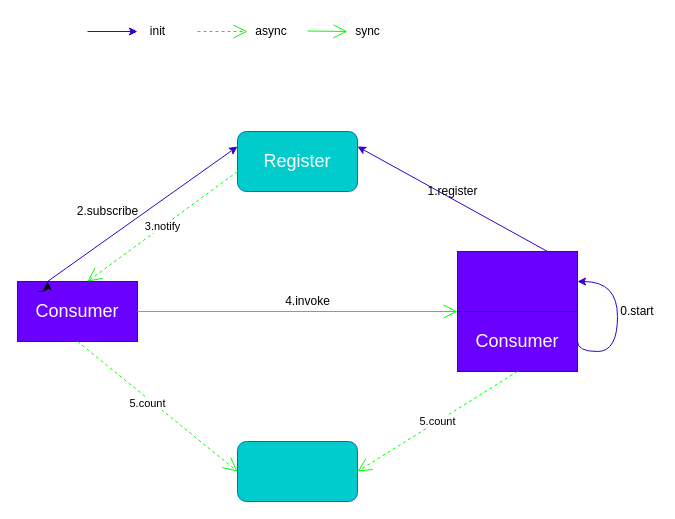
Some shapes in this 675 by 519 pixel diagram are drawn without their labels. Each missing label, with the centre of its shape:
Monitor: point (297, 471)
Provider: point (517, 281)
